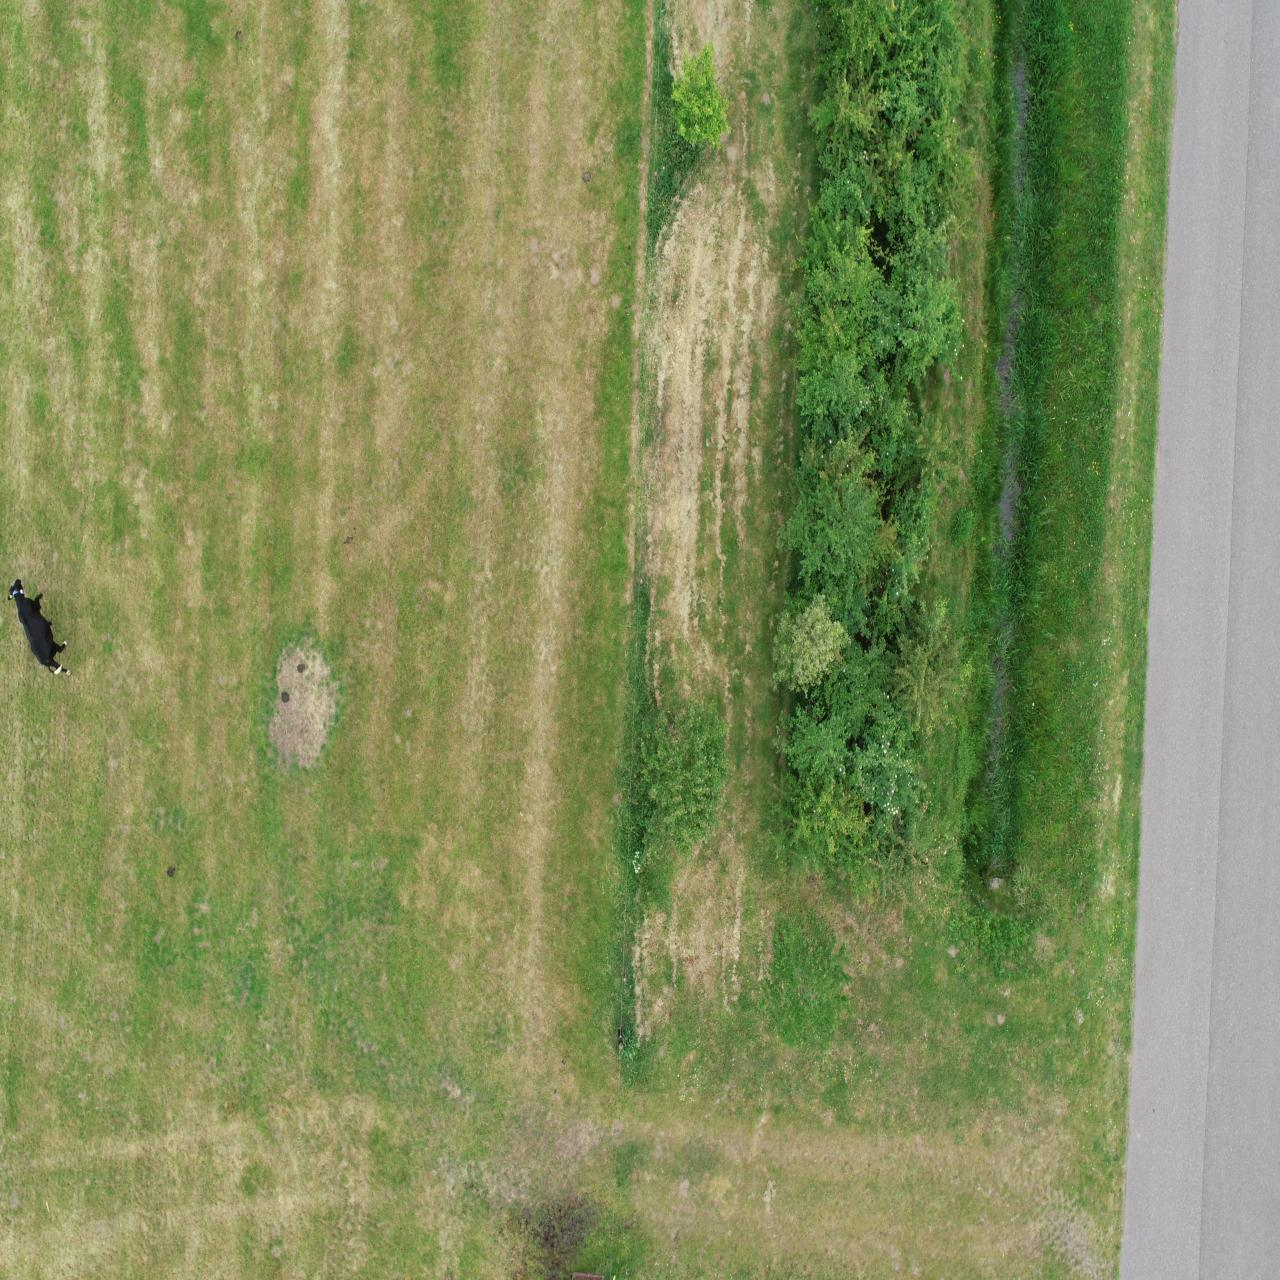cow: (7, 578, 72, 675)
